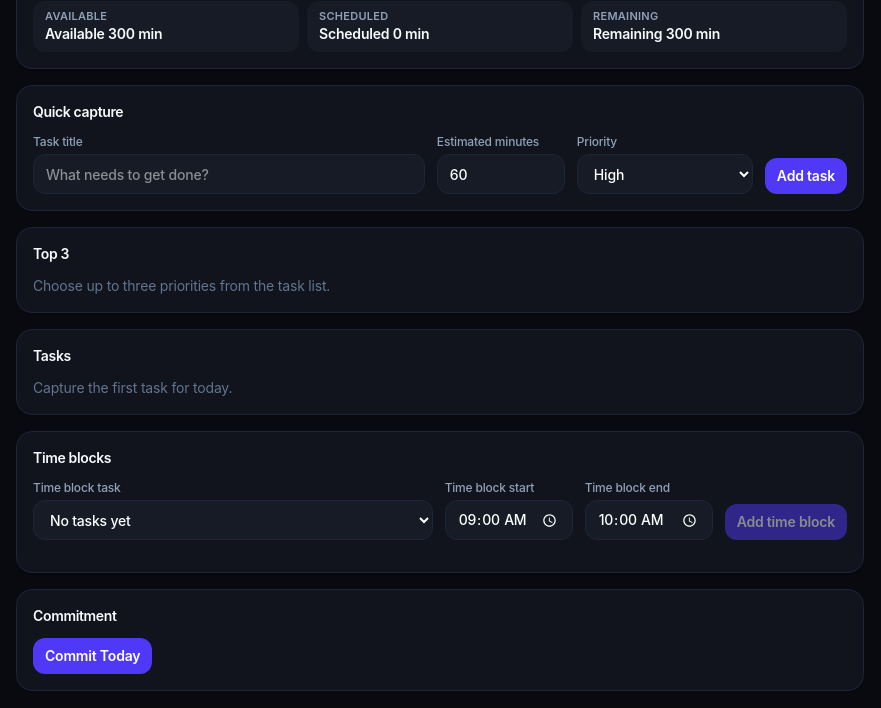
renders Committed at after commit succeeds
(page scrolled)
Click the button "Commit Today". click: (93, 656)
box: [33,638,152,674]
(page scrolled)
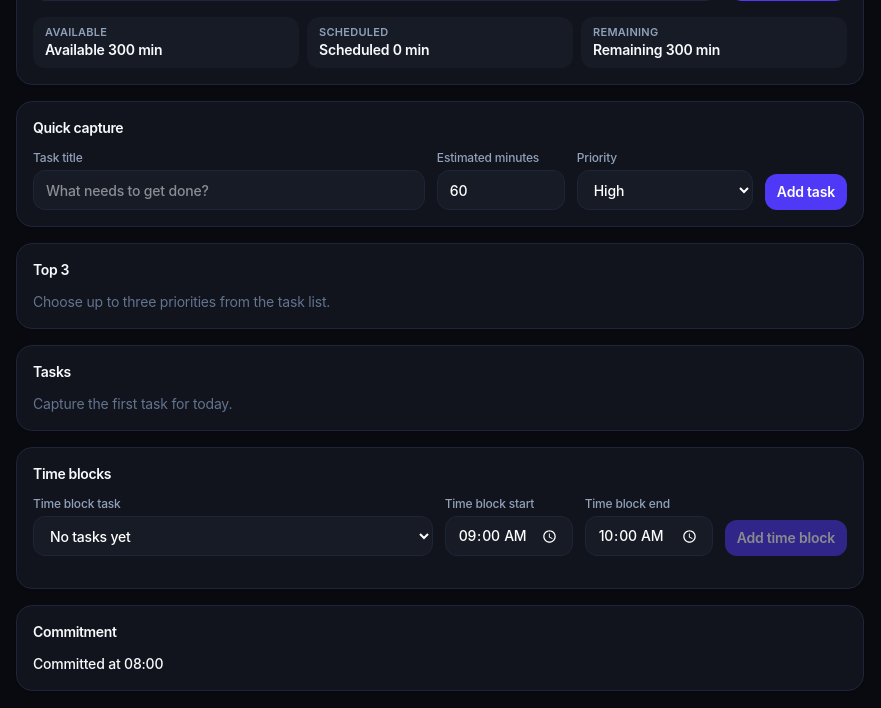
expect the text "Committed at 08:00" is shown: met, box [33,655,163,672]
expect the button "Commit Today" is gone: met
